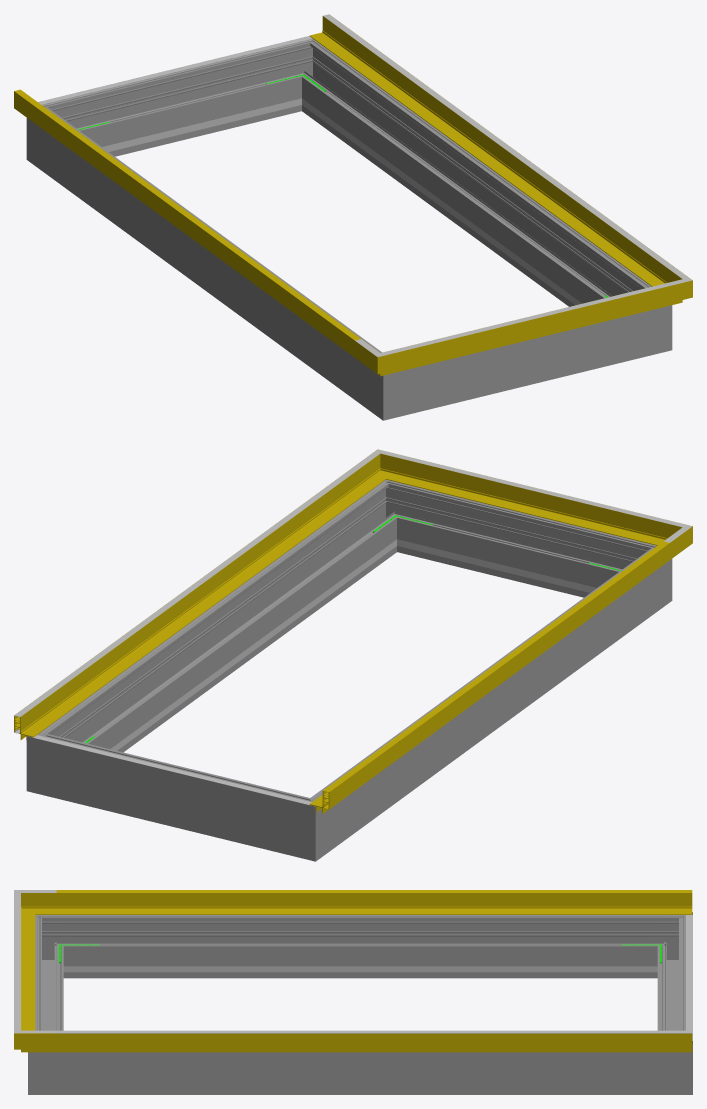
The picture shows the model from 3 angles, top to bottom: view 1: azimuth 30°, elevation 25°; view 2: azimuth 150°, elevation 25°; view 3: azimuth 270°, elevation 25°; orthographic projection. The views are drawn at different scales.
Parts seen in each view (by area): view 1: 3DGeom-298, 3DGeom-269, 3DGeom-277, 3DGeom-58, 3DGeom-299, 3DGeom-50, 3DGeom-56, 3DGeom-271, 3DGeom-71, 3DGeom-64, 3DGeom-285, 3DGeom-291 (+7 smaller); view 2: 3DGeom-298, 3DGeom-269, 3DGeom-299, 3DGeom-277, 3DGeom-58, 3DGeom-50, 3DGeom-56, 3DGeom-279, 3DGeom-285, 3DGeom-71, 3DGeom-64, 3DGeom-291 (+7 smaller); view 3: 3DGeom-269, 3DGeom-298, 3DGeom-50, 3DGeom-58, 3DGeom-233, 3DGeom-64, 3DGeom-277, 3DGeom-299, 3DGeom-71, 3DGeom-285, 3DGeom-291, 3DGeom-279 (+6 smaller).
Part boxes in pixels (<box>): 3DGeom-298: <box>305,52,642,306</box>; 3DGeom-269: <box>49,118,372,403</box>; 3DGeom-277: <box>70,46,295,156</box>; 3DGeom-58: <box>309,16,668,285</box>; 3DGeom-299: <box>422,315,632,410</box>; 3DGeom-50: <box>14,91,357,357</box>; 3DGeom-56: <box>413,290,653,368</box>; 3DGeom-271: <box>360,346,422,420</box>; 3DGeom-71: <box>14,89,360,340</box>; 3DGeom-64: <box>323,14,669,264</box>; 3DGeom-285: <box>280,38,331,113</box>; 3DGeom-291: <box>633,280,672,359</box>; 3DGeom-298: <box>56,493,393,752</box>; 3DGeom-269: <box>326,559,649,844</box>; 3DGeom-299: <box>403,487,628,597</box>; 3DGeom-277: <box>66,740,283,851</box>; 3DGeom-58: <box>14,468,374,739</box>; 3DGeom-50: <box>309,543,670,813</box>; 3DGeom-56: <box>406,461,649,541</box>; 3DGeom-279: <box>276,787,338,861</box>; 3DGeom-285: <box>26,721,73,800</box>; 3DGeom-71: <box>323,541,669,793</box>; 3DGeom-64: <box>14,466,360,717</box>; 3DGeom-291: <box>367,479,418,554</box>; 3DGeom-269: <box>70,915,650,978</box>; 3DGeom-298: <box>70,1052,650,1094</box>; 3DGeom-50: <box>56,893,692,914</box>; 3DGeom-58: <box>56,1033,692,1052</box>; 3DGeom-233: <box>104,966,616,972</box>; 3DGeom-64: <box>56,1030,692,1033</box>; 3DGeom-277: <box>657,930,685,1030</box>; 3DGeom-299: <box>35,930,63,1030</box>; 3DGeom-71: <box>56,890,692,892</box>; 3DGeom-285: <box>650,1025,692,1094</box>; 3DGeom-291: <box>28,1025,70,1094</box>; 3DGeom-279: <box>650,912,692,978</box>.
Bounding box in the file's own units: 1.22 × 0.2669 × 2.44.
